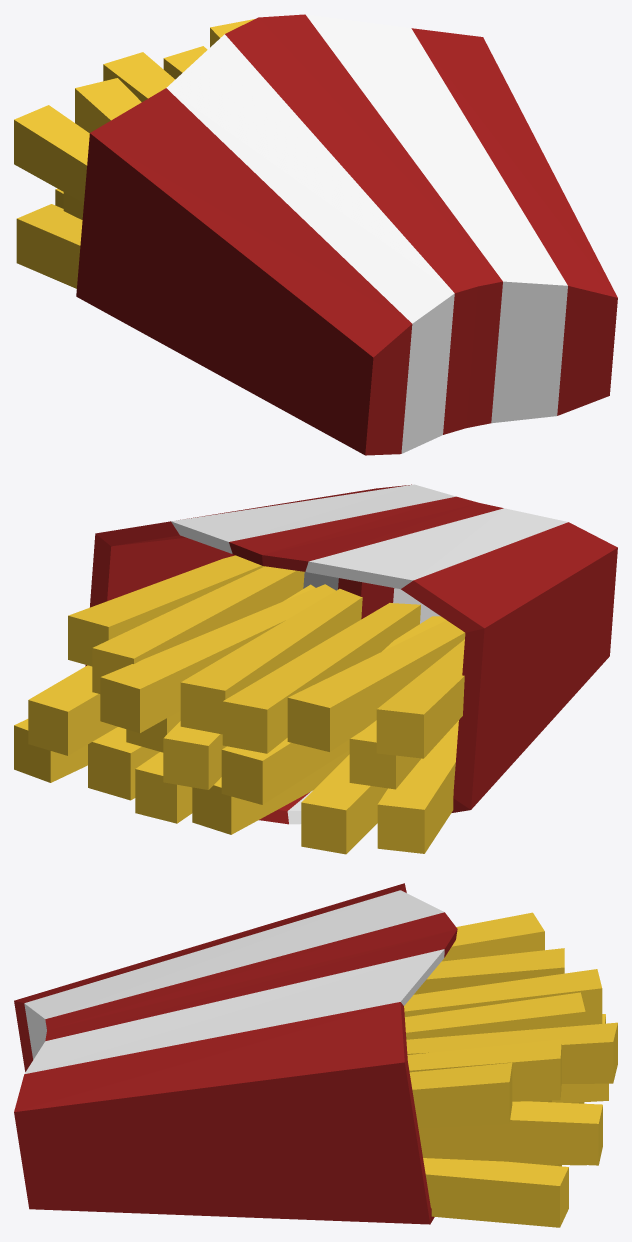
File: Fries.obj
3 renders of one model, top to bottom at view 1: azimuth 30°, elevation 25°; view 2: azimuth 150°, elevation 25°; view 3: azimuth 270°, elevation 25°, orthographic. The views are drawn at different scales.
Visible parts, largest first — view 1: Fries_DarkRed, Fries_White, Fries_Yellow; view 2: Fries_Yellow, Fries_DarkRed, Fries_White; view 3: Fries_DarkRed, Fries_Yellow, Fries_White.
Part boxes in pixels (x1,y1,x2,y2): Fries_DarkRed: [76, 14, 617, 455]; Fries_White: [166, 14, 567, 453]; Fries_Yellow: [14, 19, 254, 288]; Fries_Yellow: [14, 555, 465, 854]; Fries_DarkRed: [85, 484, 617, 824]; Fries_White: [171, 484, 567, 824]; Fries_DarkRed: [14, 883, 457, 1224]; Fries_Yellow: [404, 912, 617, 1227]; Fries_White: [24, 890, 444, 1073].
Size of the model in its own units: 0.9488 by 0.5857 by 1.33.
